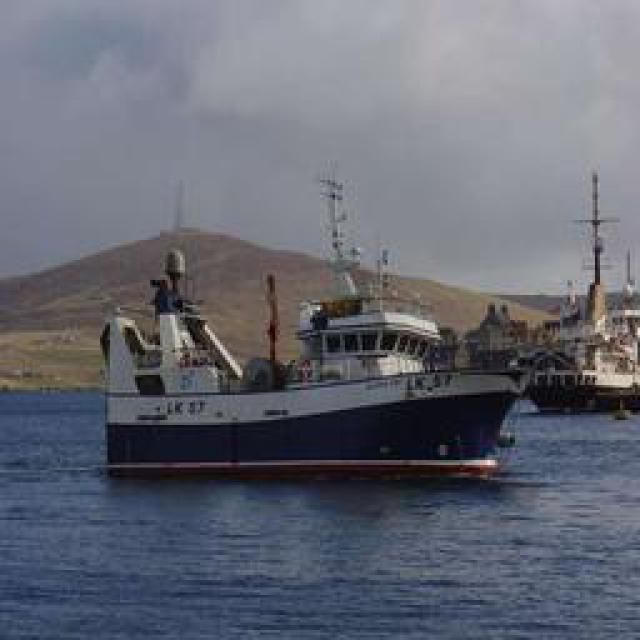Ship: (104, 235, 539, 473)
